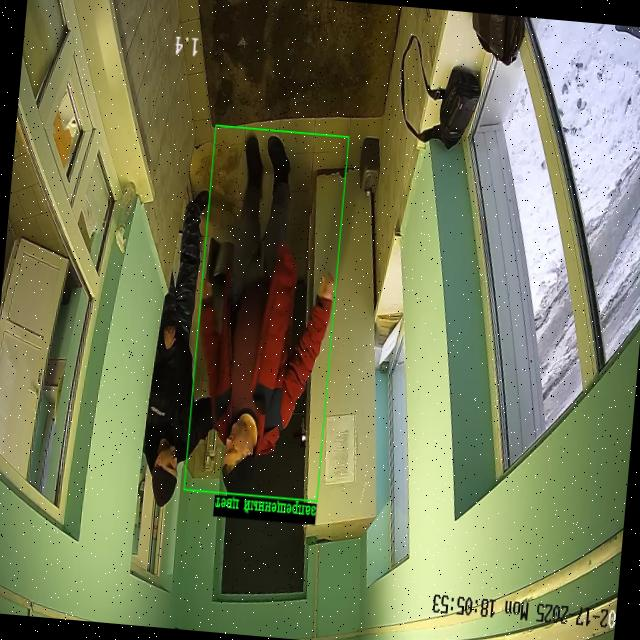Person: (143, 191, 211, 507)
Red uniform: (200, 135, 334, 491)
